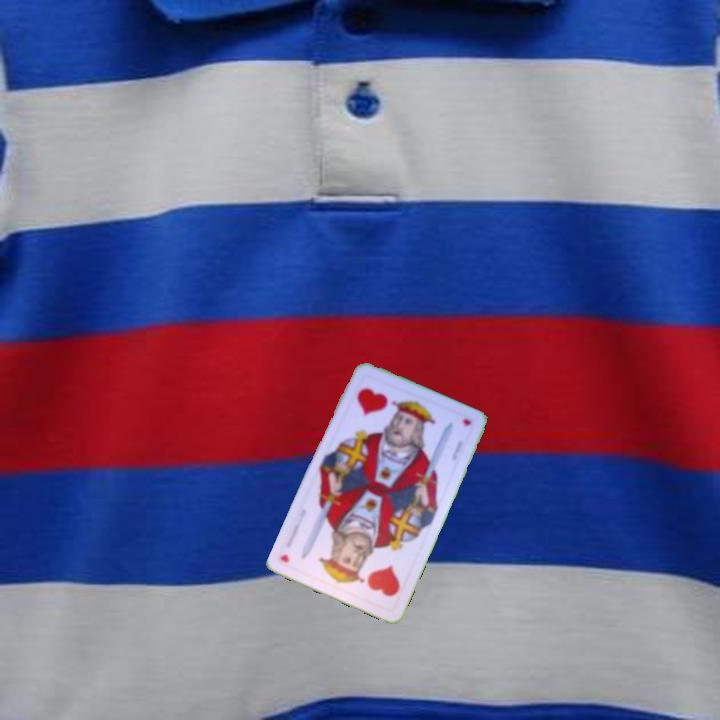h_k.png: (338, 370, 421, 448), (333, 535, 415, 613)
